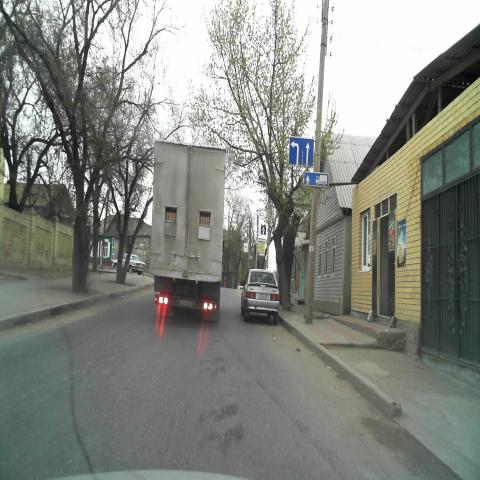6_15_1: (304, 171, 328, 187)
